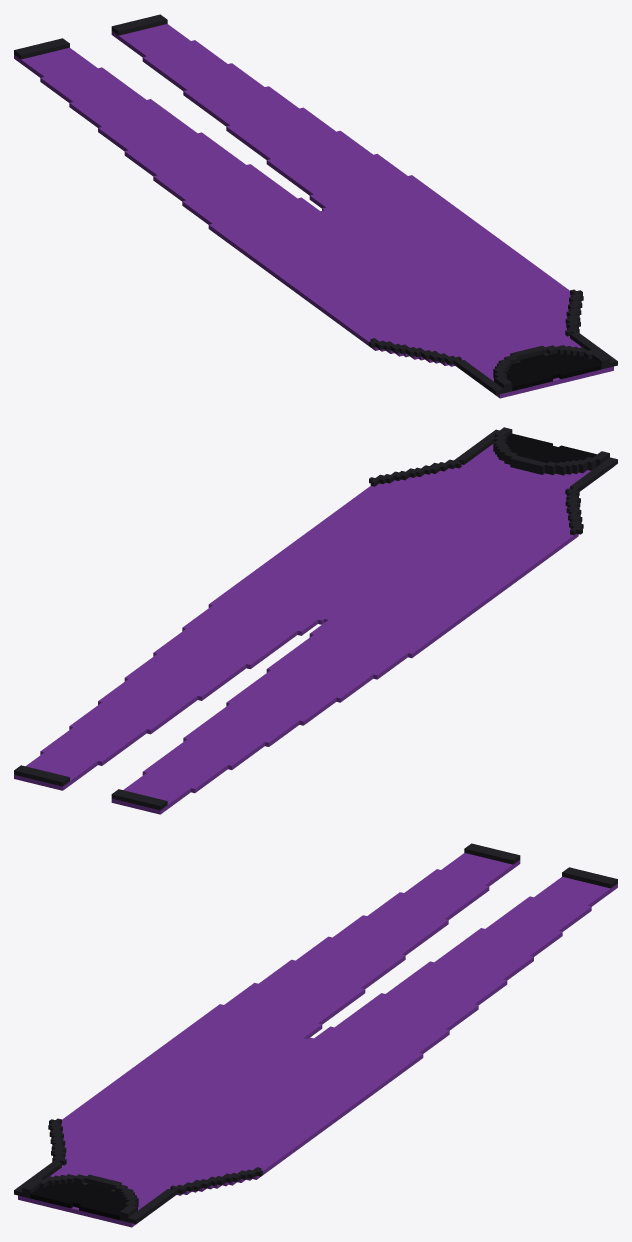
The model's file is unitard.glb.
3 views of the same model, one above another, from view 1: azimuth 30°, elevation 25°; view 2: azimuth 150°, elevation 25°; view 3: azimuth 330°, elevation 25° (orthographic).
Parts seen in each view (by area): view 1: unitard:compound; view 2: unitard:compound; view 3: unitard:compound.
Boxes of the visible parts, left/top/right/bottom form: unitard:compound: left=14, top=14, right=617, bottom=398; unitard:compound: left=14, top=427, right=617, bottom=814; unitard:compound: left=14, top=843, right=617, bottom=1227.
Bounding box in the file's own units: 0.208 × 0.012 × 0.8.
